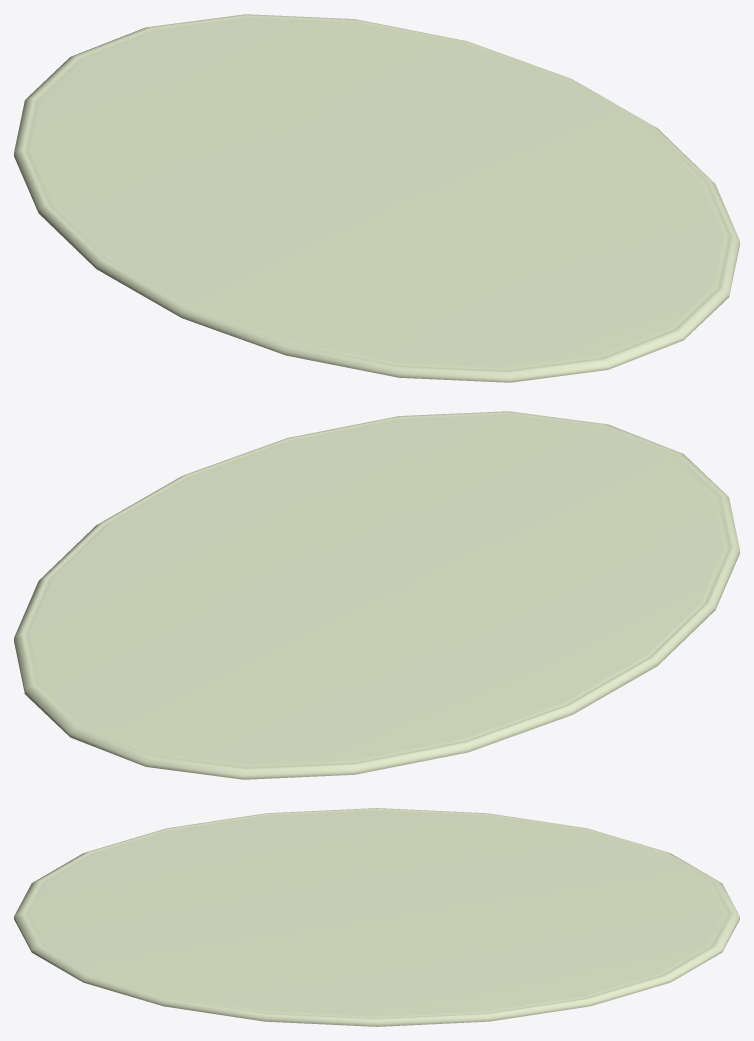
The model's file is rug_Oval.fbx.
3 renders of one model, top to bottom at view 1: azimuth 30°, elevation 25°; view 2: azimuth 150°, elevation 25°; view 3: azimuth 270°, elevation 25°, orthographic. The views are drawn at different scales.
Visible parts, largest first — view 1: polySurface105; view 2: polySurface105; view 3: polySurface105.
Part boxes in pixels (x1,y1,x2,y2): polySurface105: (14,14,739,382); polySurface105: (14,411,739,779); polySurface105: (14,808,739,1026).
Size of the model in its own units: 2 by 0.0274 by 2.85.
